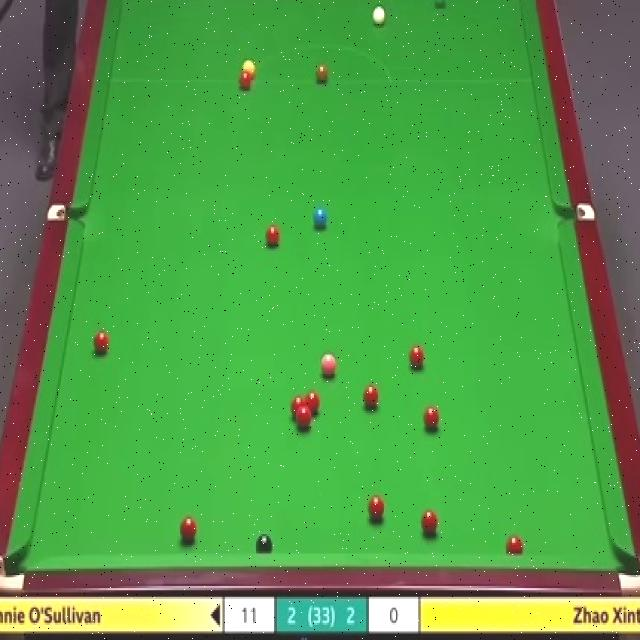black-ball: (255, 530, 274, 555)
blue-ball: (312, 205, 328, 231)
brown-ball: (314, 61, 328, 85)
green-ball: (430, 0, 447, 9)
pink-ball: (320, 349, 338, 378)
red-ball: (408, 343, 426, 374), (92, 328, 110, 358), (420, 509, 438, 538), (367, 494, 385, 522), (362, 383, 379, 411), (422, 403, 439, 430), (181, 515, 197, 542), (506, 533, 524, 555), (265, 224, 281, 248), (306, 391, 320, 418), (291, 396, 305, 418), (297, 409, 311, 430), (240, 71, 252, 94)
white-ball: (372, 3, 387, 29)
yellow-ball: (242, 60, 255, 81)
